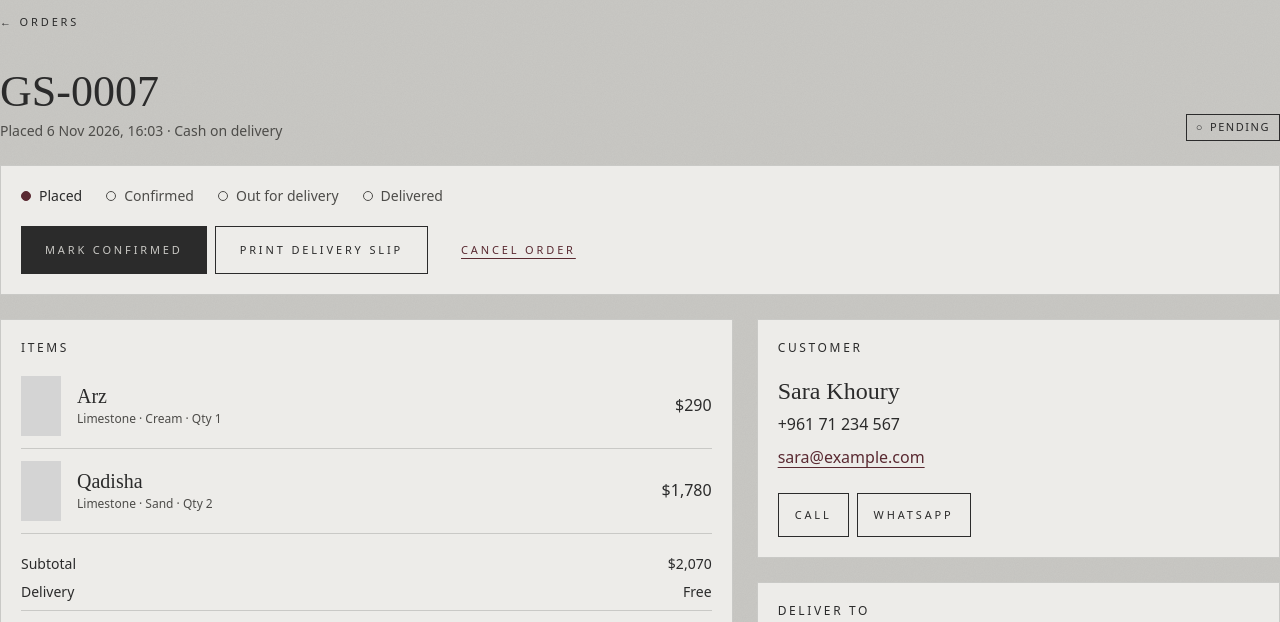
one order in the studio › shows the API's 409 word for word and reads the order again (another tab moved it)
What coordinates should you click on to do the following:
click the button "Mark confirmed"
I would click on:
 (114, 250)
Its box is [21, 226, 207, 274].
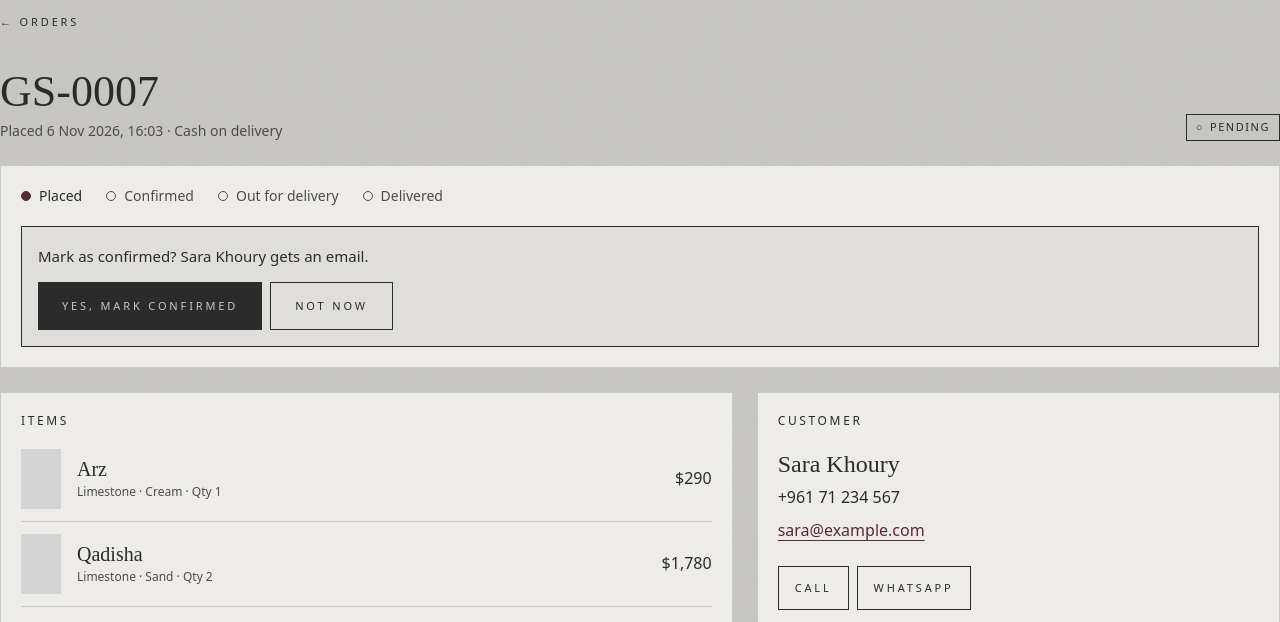
What coordinates should you click on to do the following:
click the button "Yes, mark confirmed"
I would click on:
 (150, 306)
Its box is [38, 282, 262, 330].
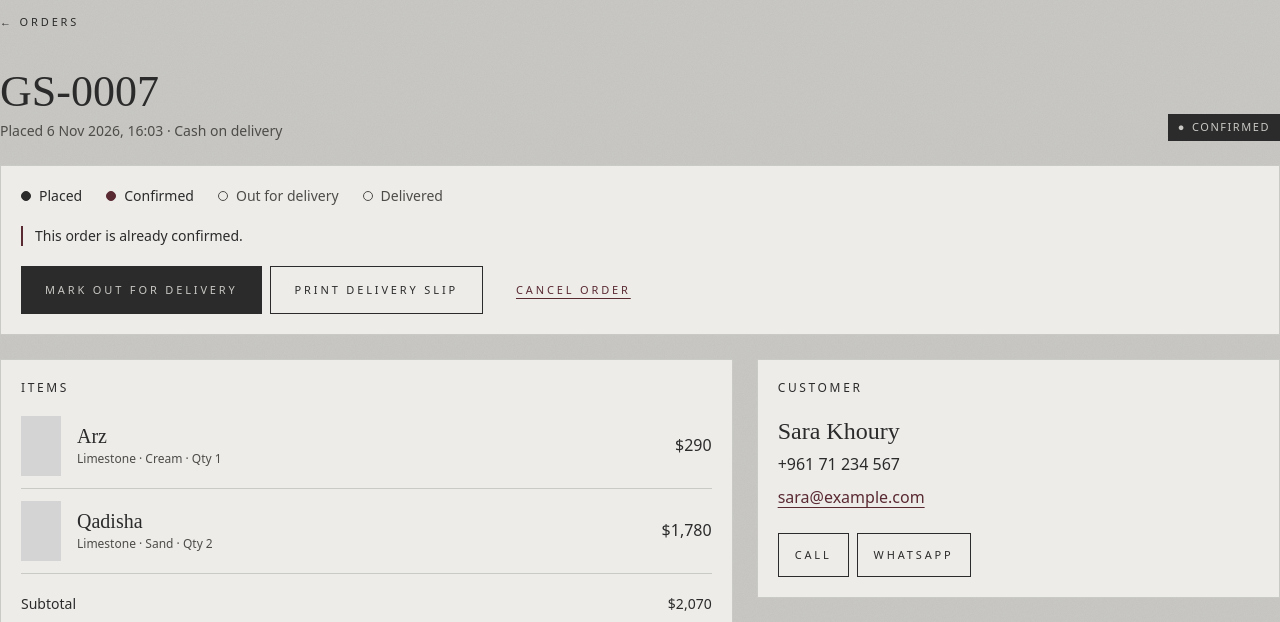
Expected: the message reads "This order is already confirmed.", [35, 226, 243, 245]
Expected: the button "Mark out for delivery" is shown, [21, 266, 262, 314]
